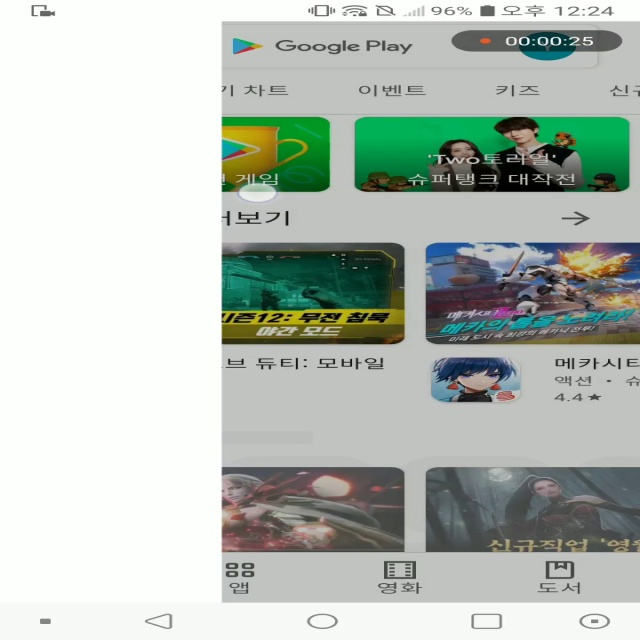Cursor: (237, 182, 281, 204)
